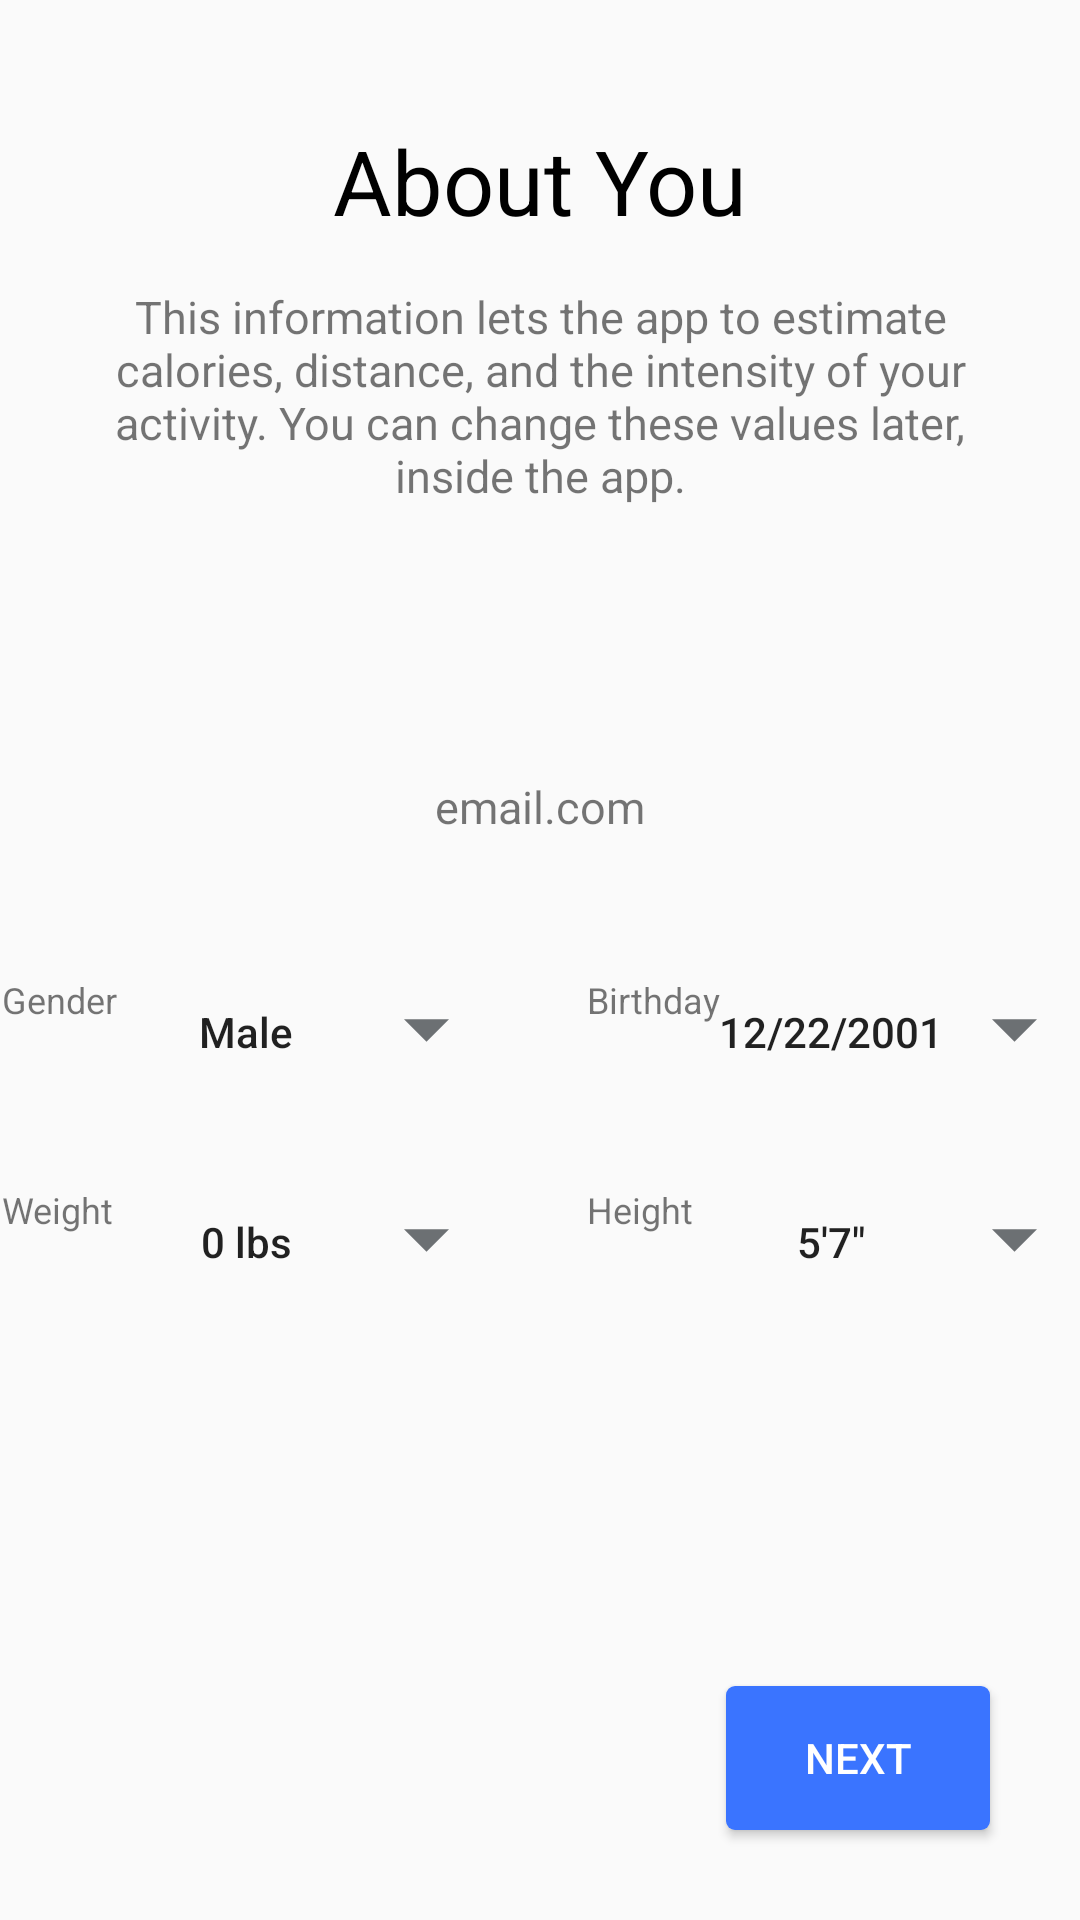

Icon click points for this 1080 x 1920 phone screenshot, format point (x, y):
down arrow: point (426, 1030), point (1014, 1030), point (426, 1240), point (1014, 1240)
